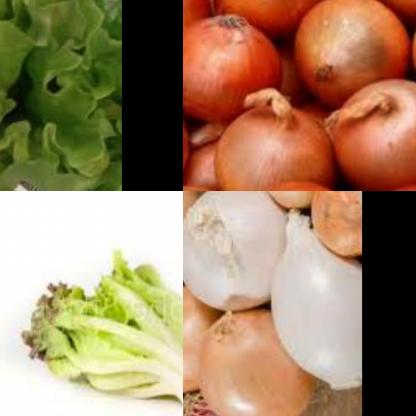onion: (183, 0, 416, 191), (264, 204, 362, 387), (192, 302, 311, 416), (183, 191, 284, 317), (183, 289, 220, 405), (304, 191, 361, 254), (183, 386, 276, 416), (257, 191, 323, 209)
salad: (15, 240, 183, 415), (0, 0, 122, 191)
